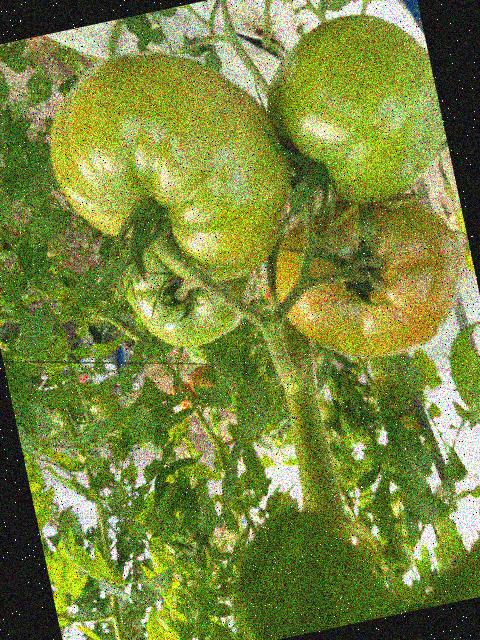b_green: (32, 23, 311, 310), (251, 0, 457, 223), (114, 217, 263, 358), (62, 378, 100, 422), (85, 387, 125, 424)
b_half_ripened: (259, 175, 480, 376), (185, 362, 218, 392)
